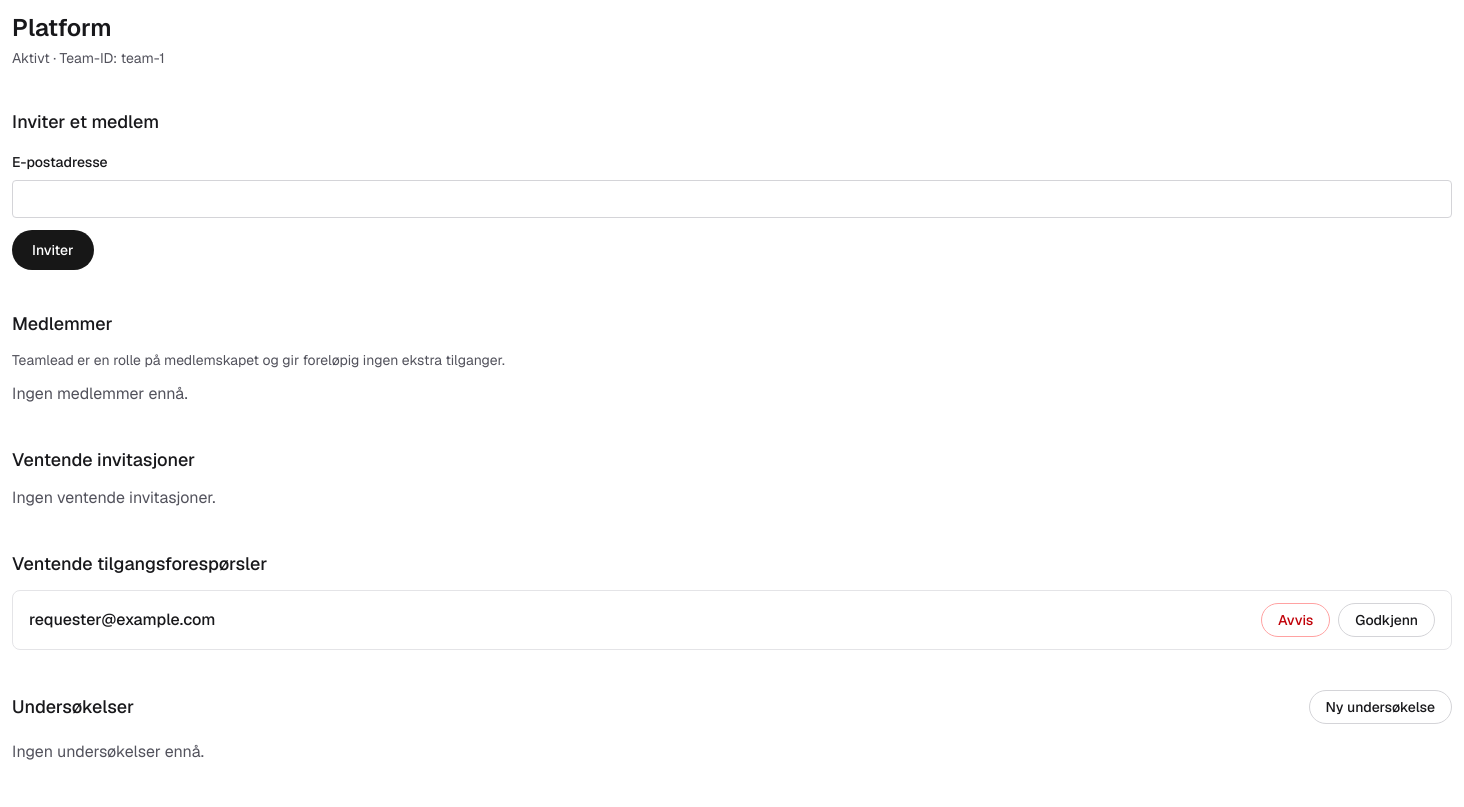
Test: AdminTeamDetail › labels Godkjenn as pending and disables (without relabeling) Avvis while an approval is in flight
Expected: the text "requester@example.com" is shown, [29,608,215,632]
Click the button "Godkjenn" at (1387, 620), box [1338,603,1435,637]
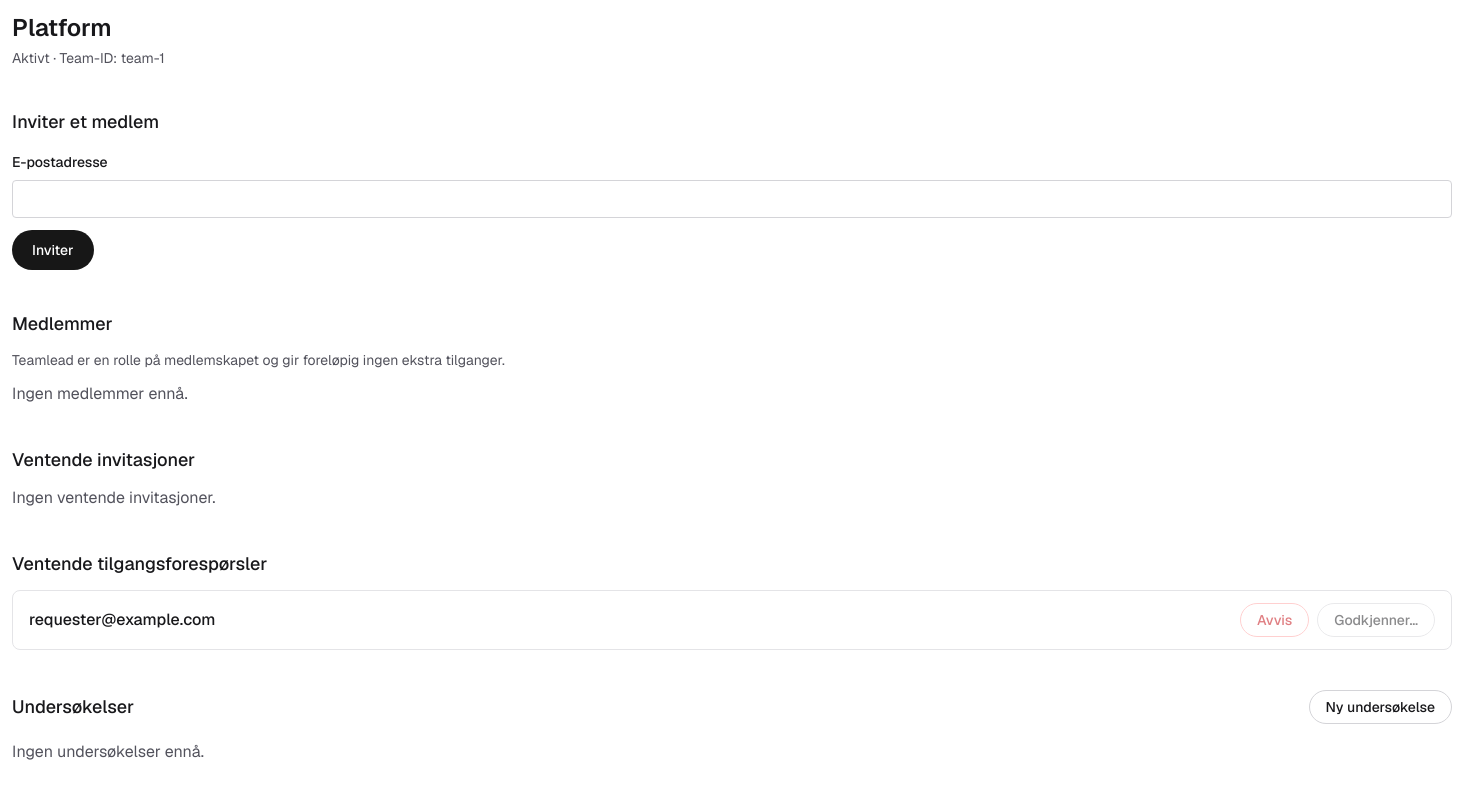
Expected: the button "Avvis" is shown, [1240,603,1309,637]
Expected: the button "Godkjenner…" is disabled, [1317,603,1435,637]
Expected: the button "Avvis" is disabled, [1240,603,1309,637]
